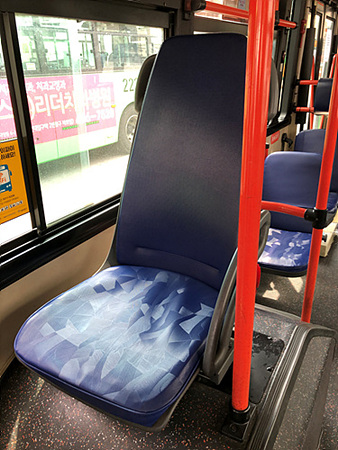seat: (17, 40, 242, 403)
